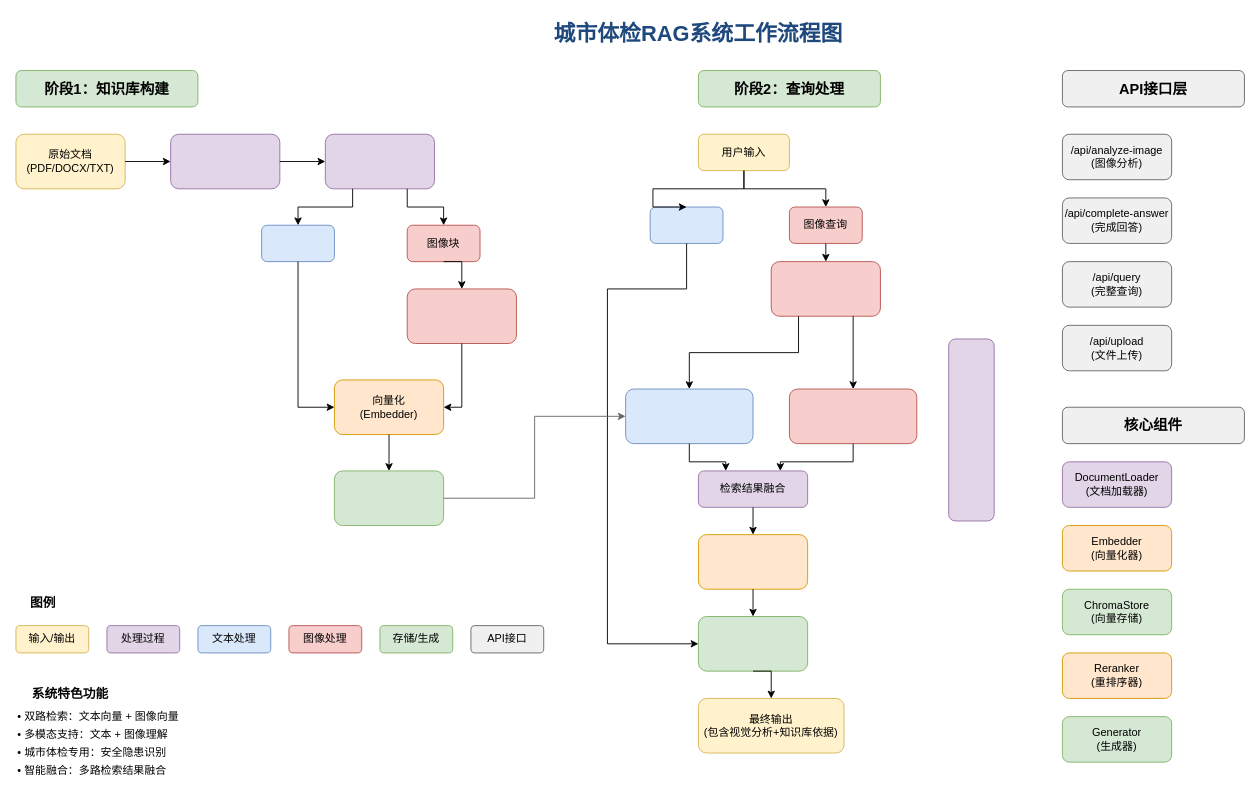
Image size: 1260x795. Some labels were removed from this diagram. The shapes that lost their labels are listed below. From the top down, each one's centre as x and y in pixels, then its label:
At point (225, 161): "PDF转Markdown (pdf2md.py)".
At point (379, 161): "文档分块 (MarkdownChunkLoader)".
At point (297, 243): "文本块".
At point (686, 224): "文本查询".
At point (825, 288): "视觉模型分析 (Qwen-VL/Gemini)".
At point (461, 316): "VLM图像描述 (batch_vlm_describe)".
At point (689, 416): "路径1：文本向量检索 (使用视觉分析文本)".
At point (853, 416): "路径2：图像向量检索 (直接使用图像向量)".
At point (971, 429): "双路检索".
At point (389, 498): "向量存储 (ChromaStore)".
At point (753, 561): "文档重排序 (Reranker)".
At point (753, 643): "回答生成 (Generator)".
